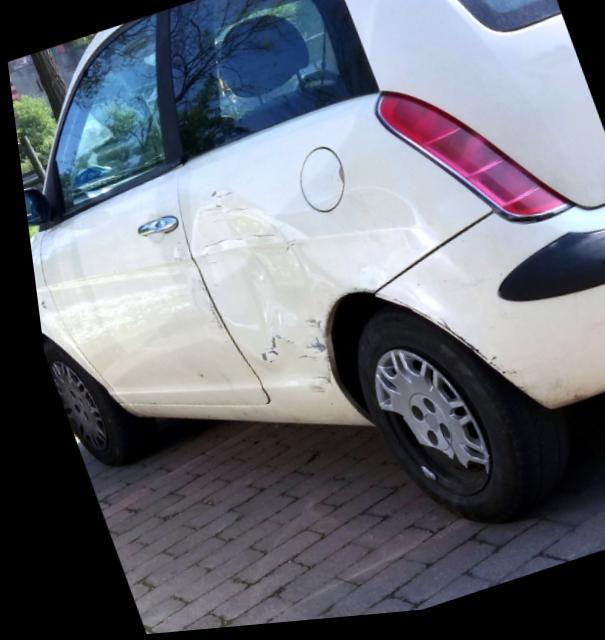dent: (183, 197, 412, 389)
